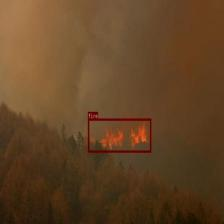fire: (88, 118, 151, 152)
